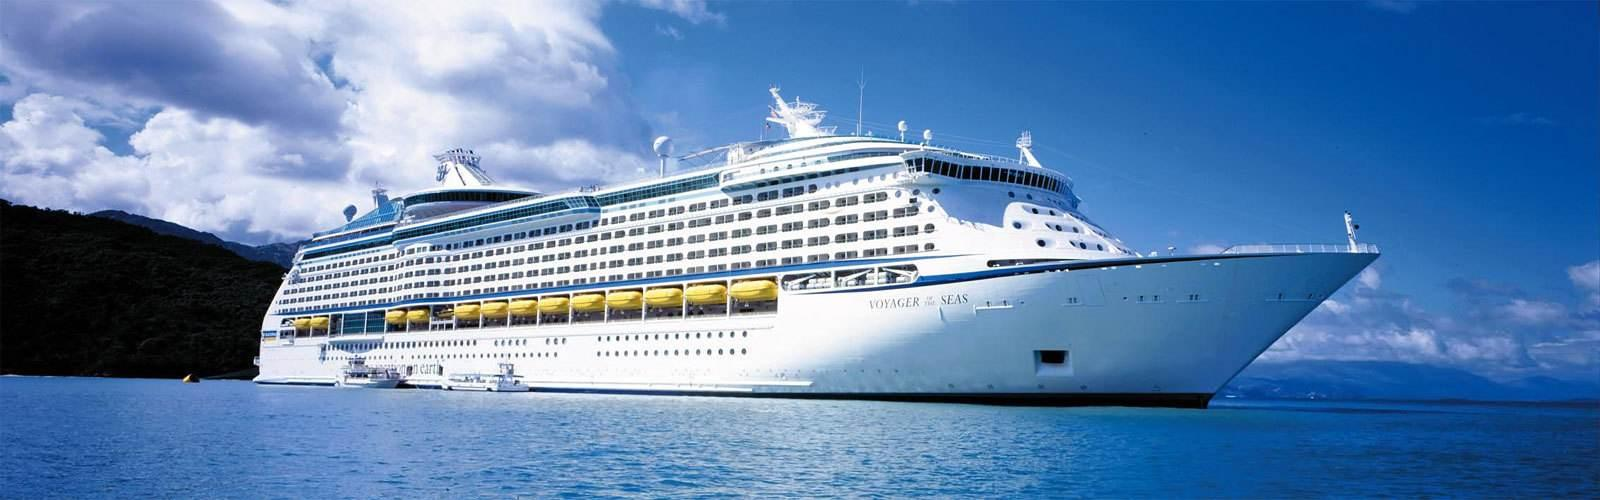youlun: (236, 82, 1384, 398)
